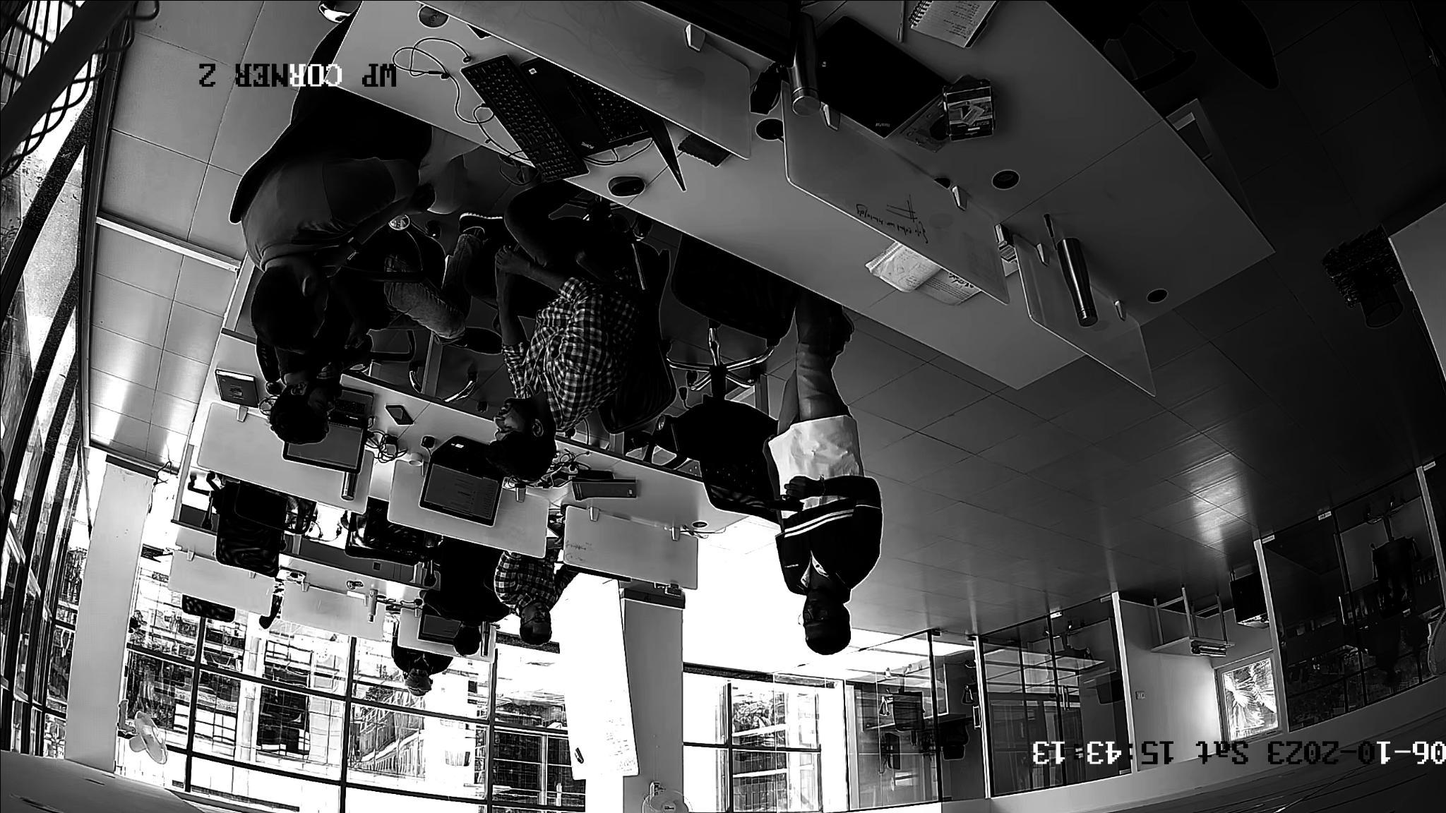gun: (768, 477, 805, 511)
